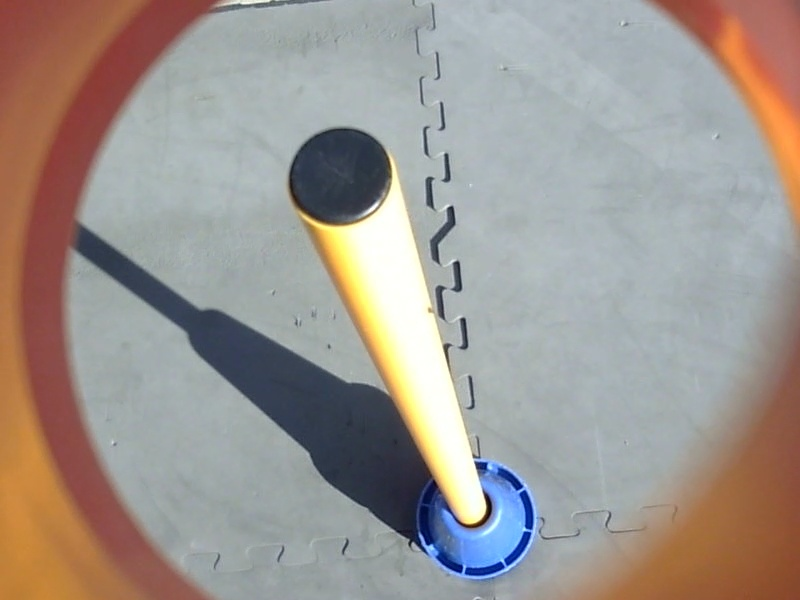tip: (284, 124, 398, 231)
